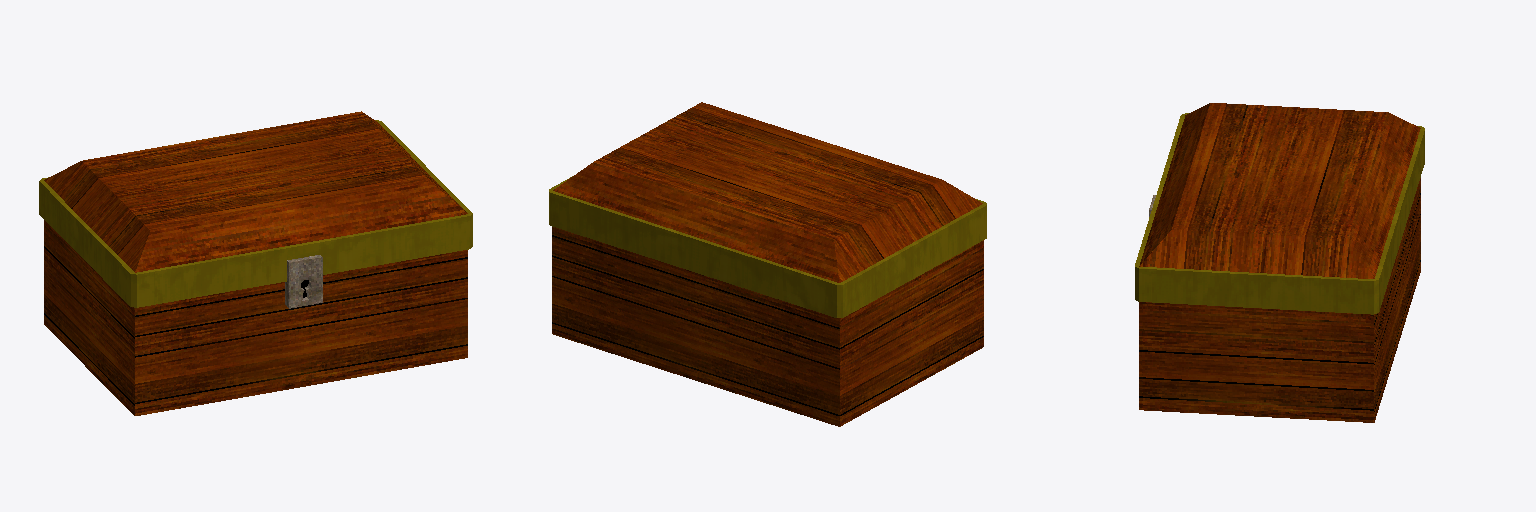
3 views of the same model, side by side, from view 1: azimuth 30°, elevation 25°; view 2: azimuth 150°, elevation 25°; view 3: azimuth 270°, elevation 25° (orthographic).
Parts seen in each view (by area): view 1: Plane; view 2: Plane; view 3: Plane.
Part boxes in pixels (x1,y1,x2,y2): Plane: (39,111,472,415); Plane: (549,102,986,426); Plane: (1135,103,1424,422).
Size of the model in its own units: 188 by 88.71 by 138.
1 materials, 1 textured.